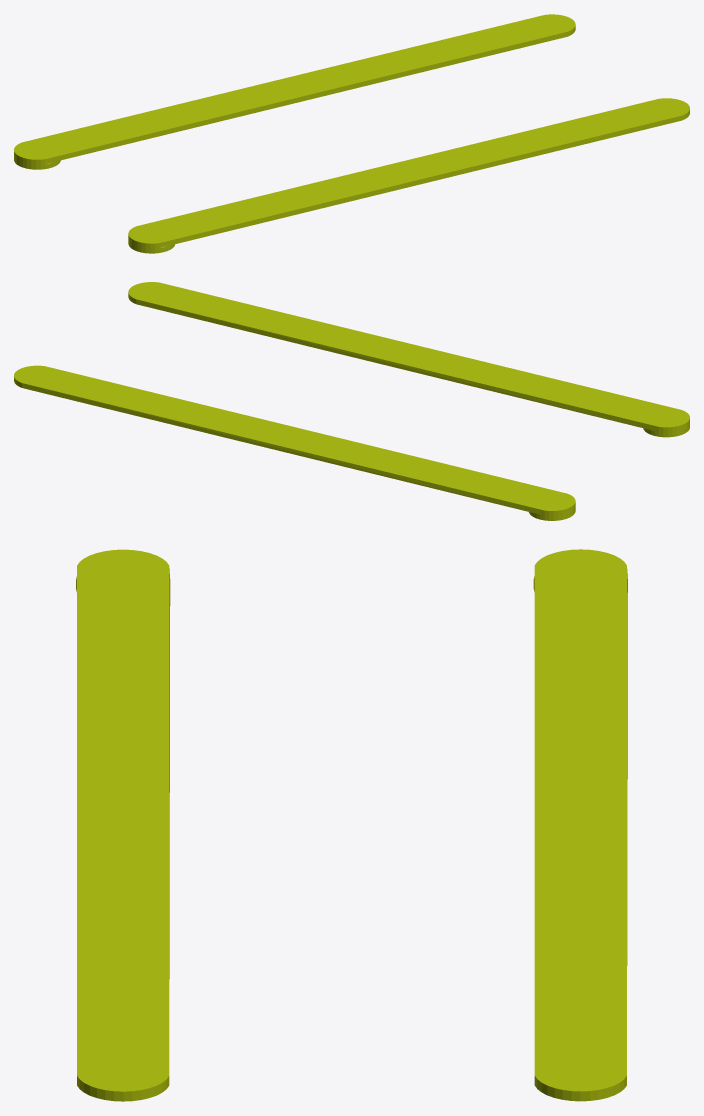
The model's file is airdoorTop.obj.
The picture shows the model from 3 angles, top to bottom: view 1: azimuth 30°, elevation 25°; view 2: azimuth 150°, elevation 25°; view 3: azimuth 270°, elevation 25°; orthographic projection. The views are drawn at different scales.
Size of the model in its own units: 1.01 by 0.0174 by 0.434.
